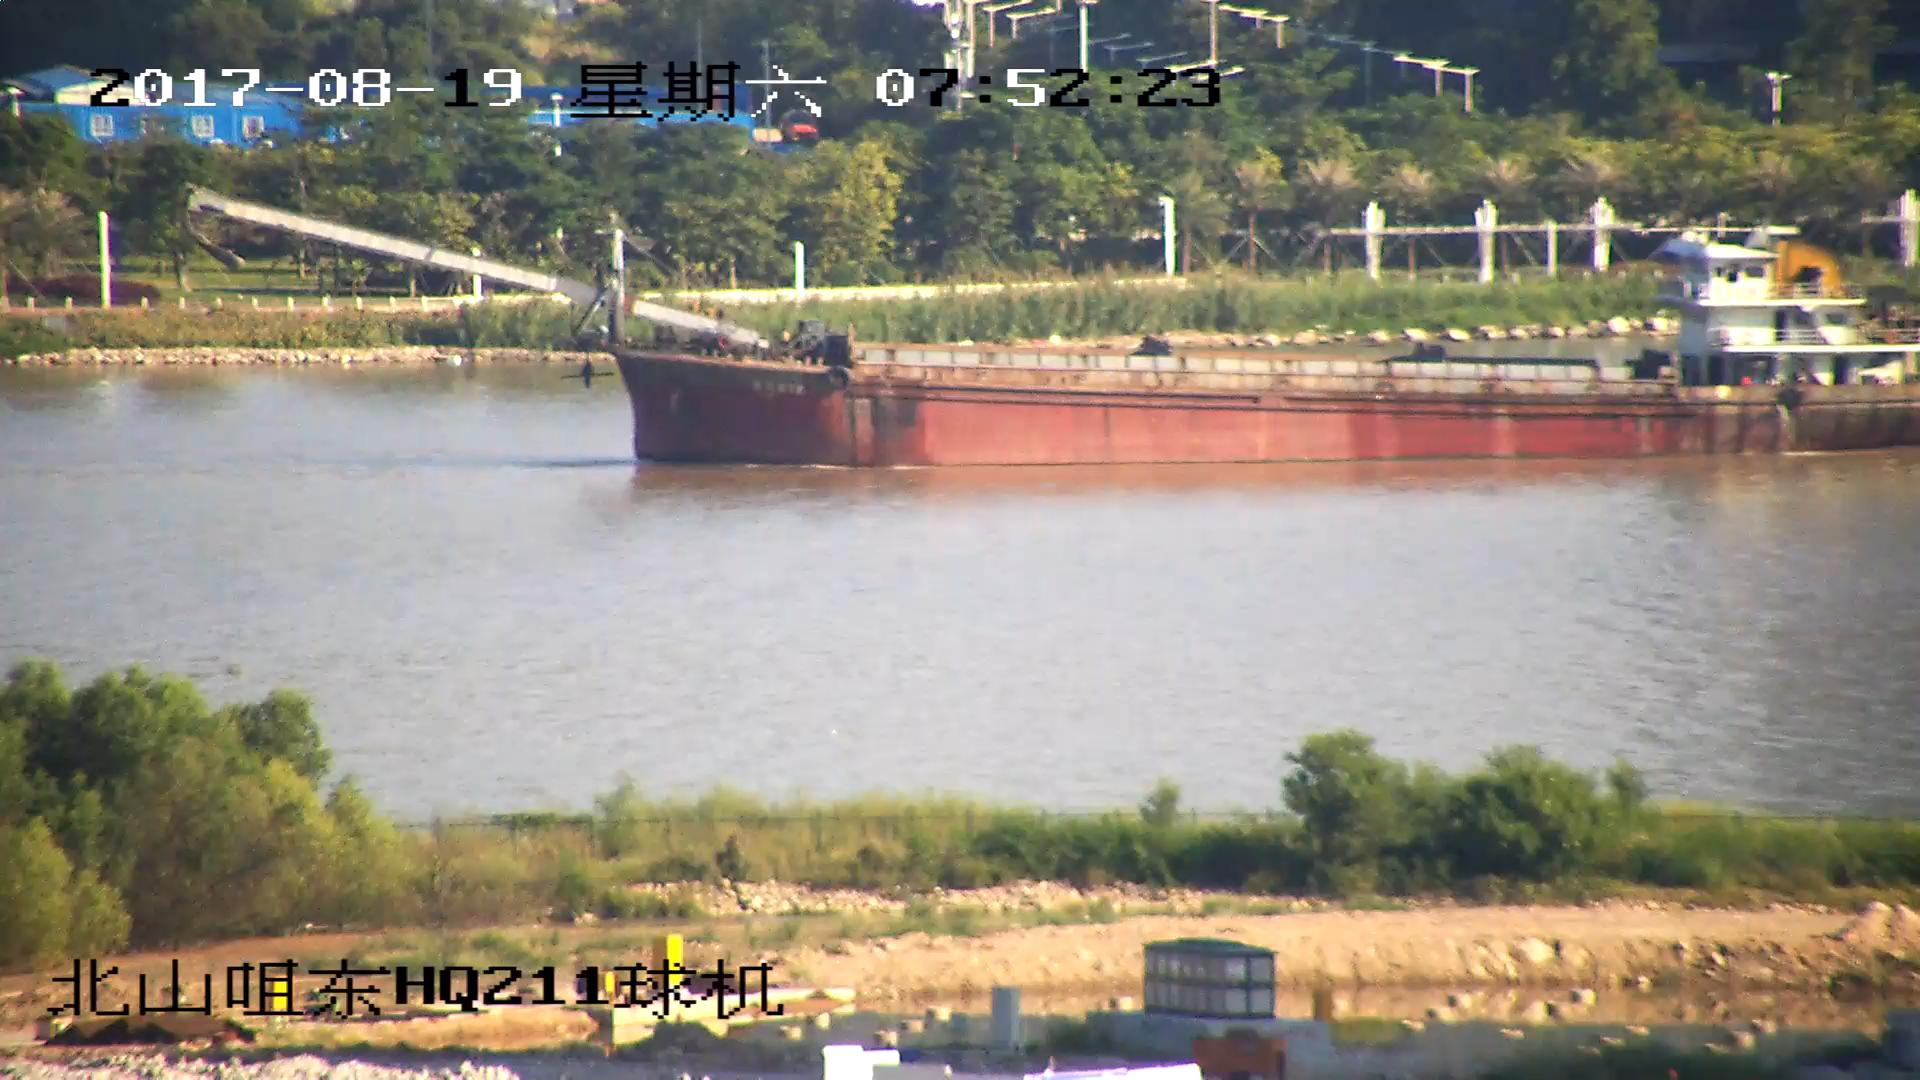bulk cargo carrier: (187, 188, 1920, 464)
